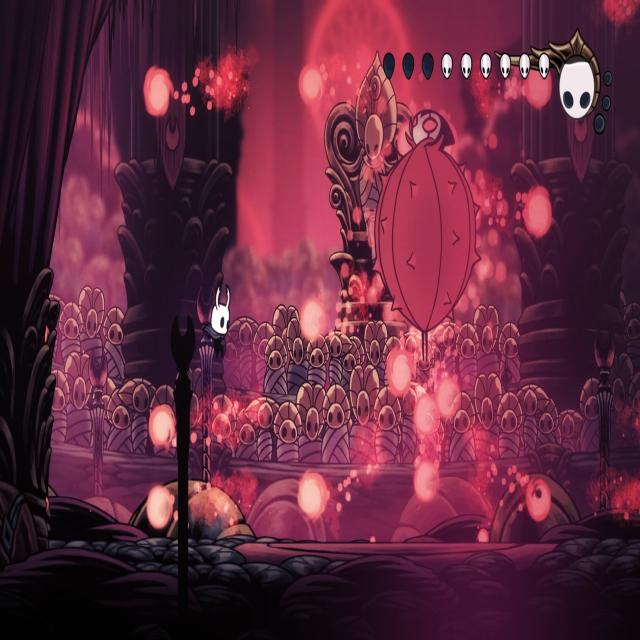Player: (204, 280, 233, 363)
Pufferfish: (371, 102, 486, 384)
Tiny Fireballs: (523, 188, 552, 240), (298, 472, 328, 519), (144, 69, 172, 118), (149, 404, 177, 452), (300, 297, 326, 343), (435, 374, 461, 420), (145, 486, 171, 532), (386, 350, 410, 398), (525, 476, 550, 522), (413, 394, 438, 436), (414, 461, 438, 503), (299, 66, 323, 104)
